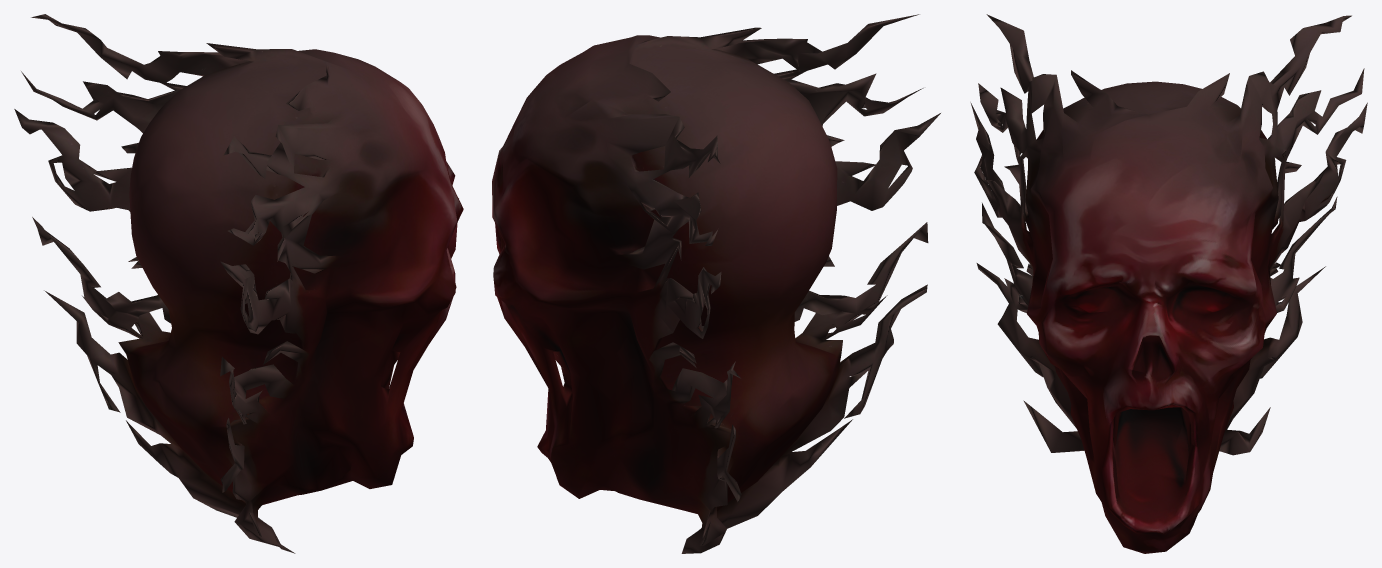
Rendered from 69e332c2-09d9-4d1a-8e7d-1b31f341deb6_model_url.glb.
The picture shows the model from 3 angles, left to right: view 1: azimuth 30°, elevation 25°; view 2: azimuth 150°, elevation 25°; view 3: azimuth 270°, elevation 25°; orthographic projection. The views are drawn at different scales.
Parts seen in each view (by area): view 1: tripo_node_69e332c2-09d9-4d1a-8e7d-1b31f341deb6; view 2: tripo_node_69e332c2-09d9-4d1a-8e7d-1b31f341deb6; view 3: tripo_node_69e332c2-09d9-4d1a-8e7d-1b31f341deb6.
Part boxes in pixels (left/top/right/bottom): tripo_node_69e332c2-09d9-4d1a-8e7d-1b31f341deb6: left=14, top=14, right=463, bottom=553; tripo_node_69e332c2-09d9-4d1a-8e7d-1b31f341deb6: left=492, top=14, right=940, bottom=553; tripo_node_69e332c2-09d9-4d1a-8e7d-1b31f341deb6: left=970, top=14, right=1367, bottom=553.
Bounding box in the file's own units: 0.7033 × 1 × 0.7696.
Materials: 1 (1 with a texture image).
